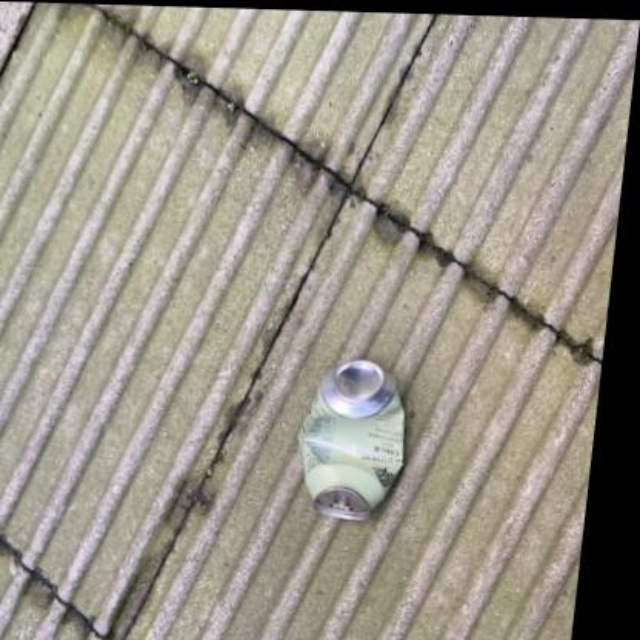trash: (300, 360, 403, 518)
